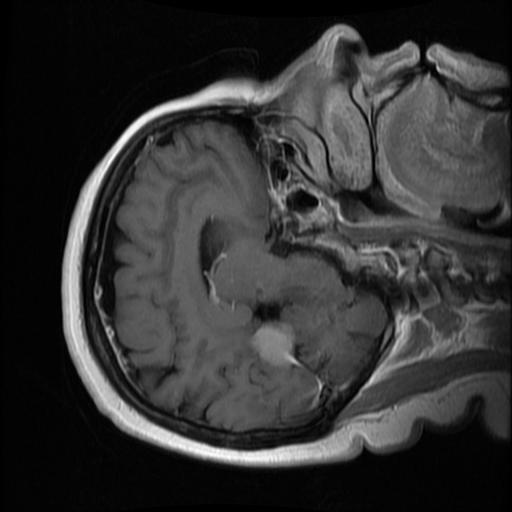meningioma: (253, 323, 295, 368)
